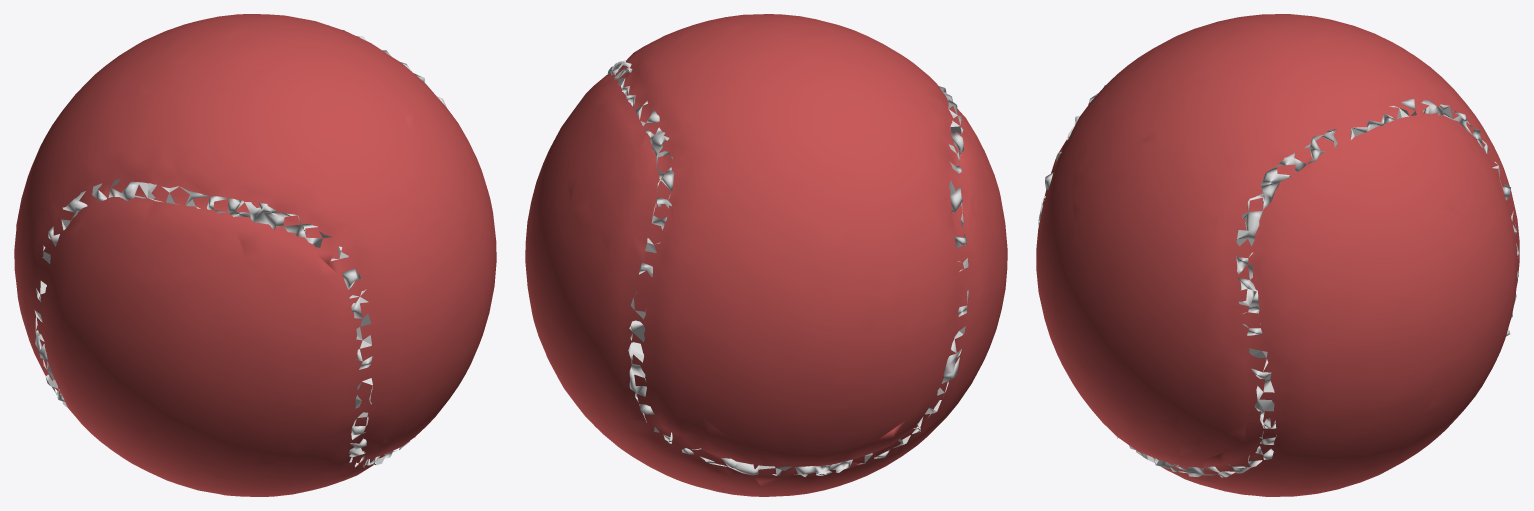
The model's file is baseball_ball.glb.
3 views of the same model, side by side, from view 1: azimuth 30°, elevation 25°; view 2: azimuth 150°, elevation 25°; view 3: azimuth 270°, elevation 25° (orthographic).
Parts seen in each view (by area): view 1: world; view 2: world; view 3: world.
Boxes of the visible parts, x1,y1,x2,y2 form: world: [14, 14, 496, 496]; world: [525, 14, 1007, 496]; world: [1036, 14, 1519, 496].
Size of the model in its own units: 1.95 by 1.94 by 1.95.
